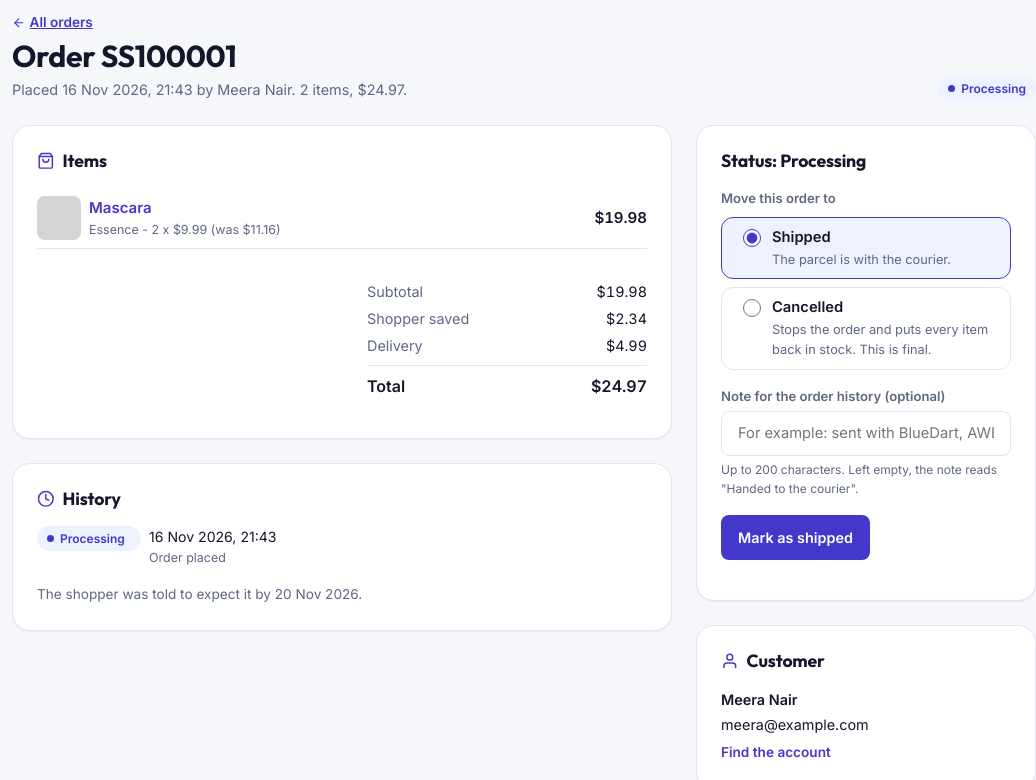
Test: AdminOrderDetails › loads the latest order after a conflict
This screenshot has width=1036, height=780.
Expected: the heading "Status: Processing" is shown, x1=721 y1=149 x2=866 y2=172
Click the button "Mark as shipped" at point(796, 537), box x1=721 y1=515 x2=870 y2=560
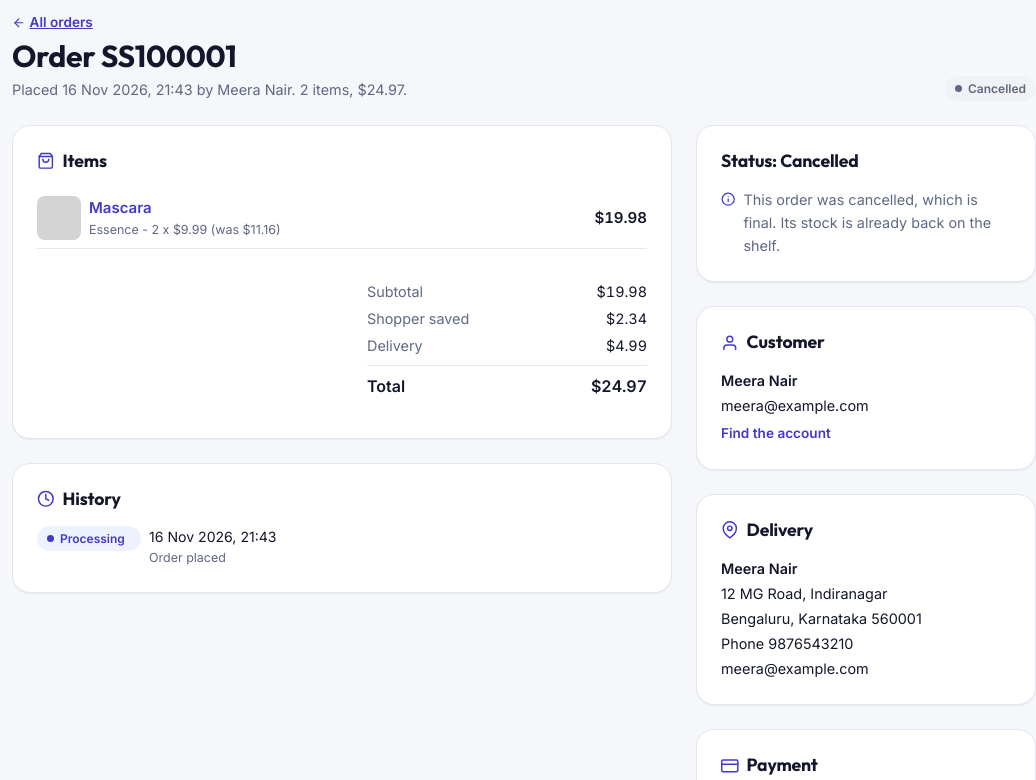
Now the heading "Status: Cancelled" is shown, box x1=721 y1=149 x2=858 y2=172
